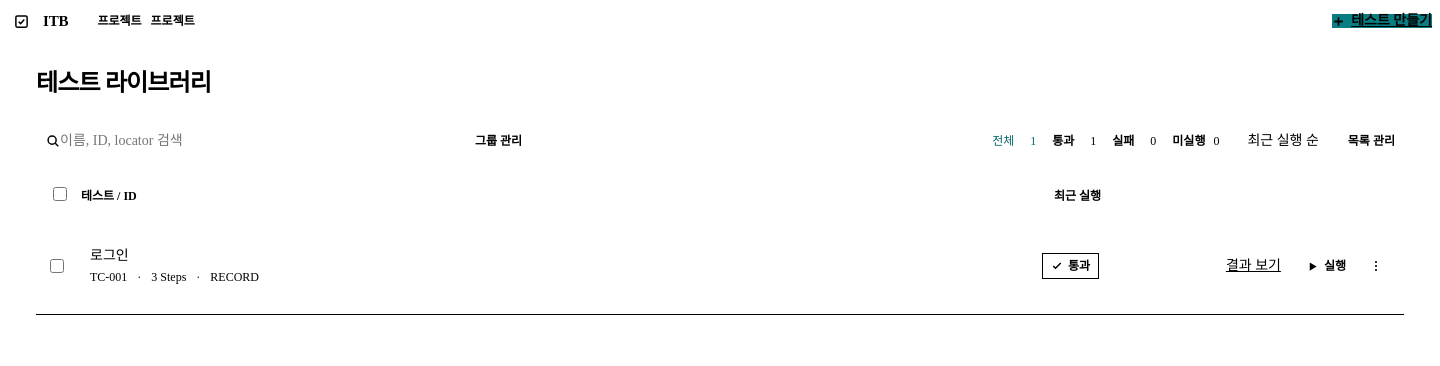
Test case: TestList — 이름 변경·삭제 (FR-007) › 취소하면 지우지 않는다
Check: the text "로그인" is shown, box [90, 248, 129, 263]
Click the button named "로그인 추가 동작".
click(1376, 266)  # box [1362, 252, 1390, 280]
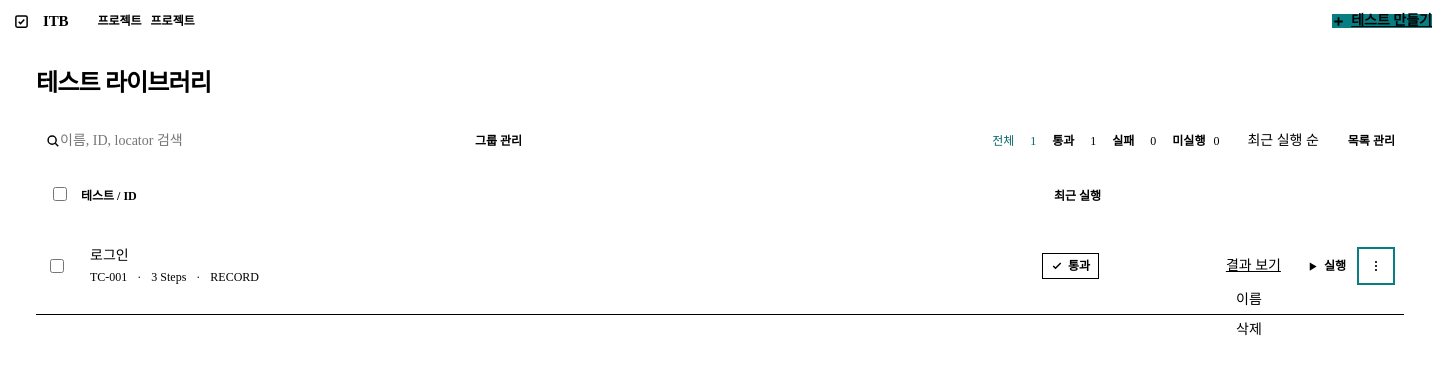
Check: the menu is shown, box [1236, 292, 1262, 337]
Click the menu item "삭제".
click(1249, 330)  # box [1236, 322, 1262, 337]
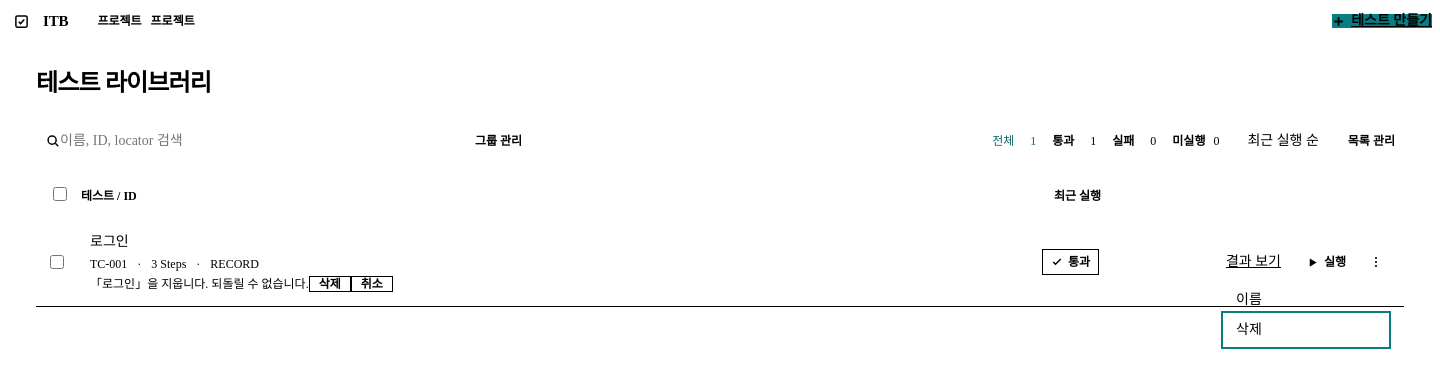
Click the button "취소".
click(372, 284)  # box [351, 276, 393, 292]
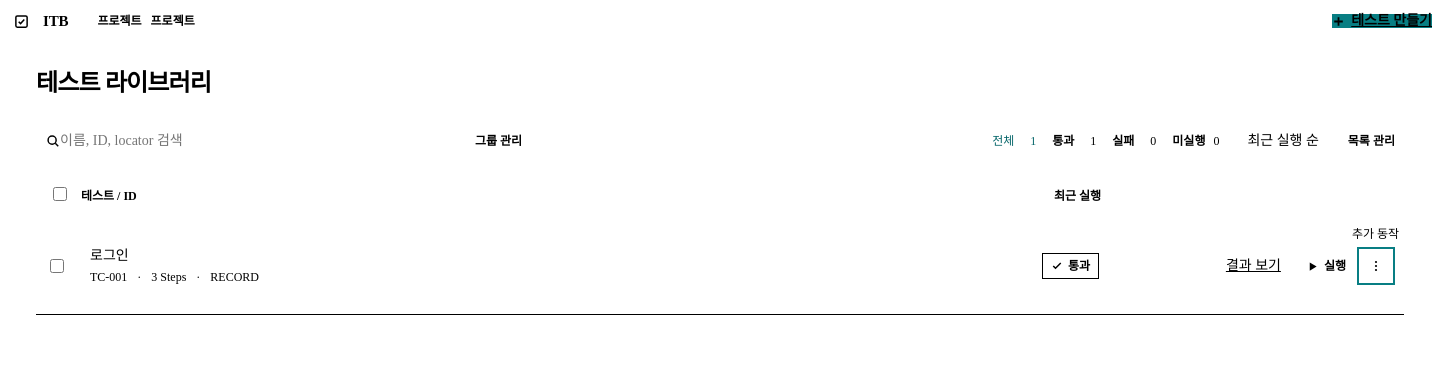
Check: the text "되돌릴 수 없습니다" is gone
